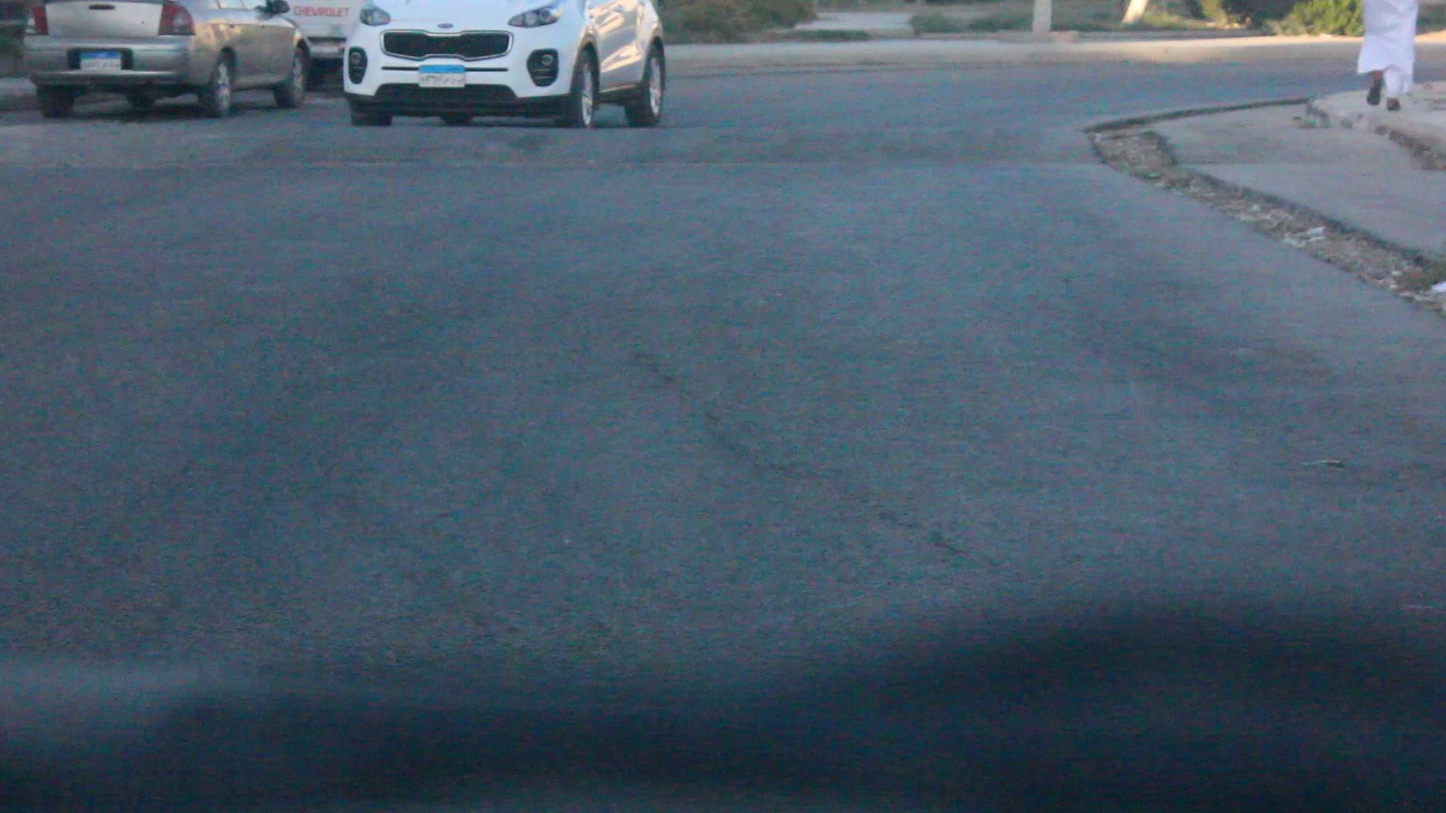Bump: (0, 107, 1126, 175)
